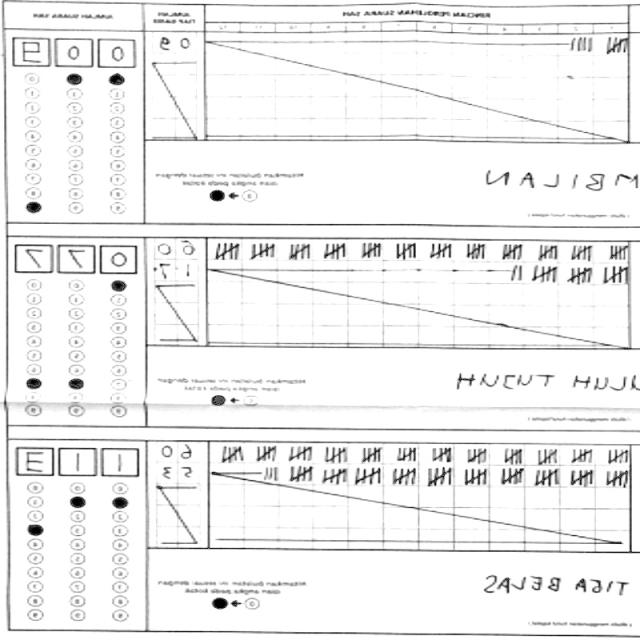Suara: (20, 445, 144, 481), (11, 34, 137, 67), (16, 242, 138, 270)
